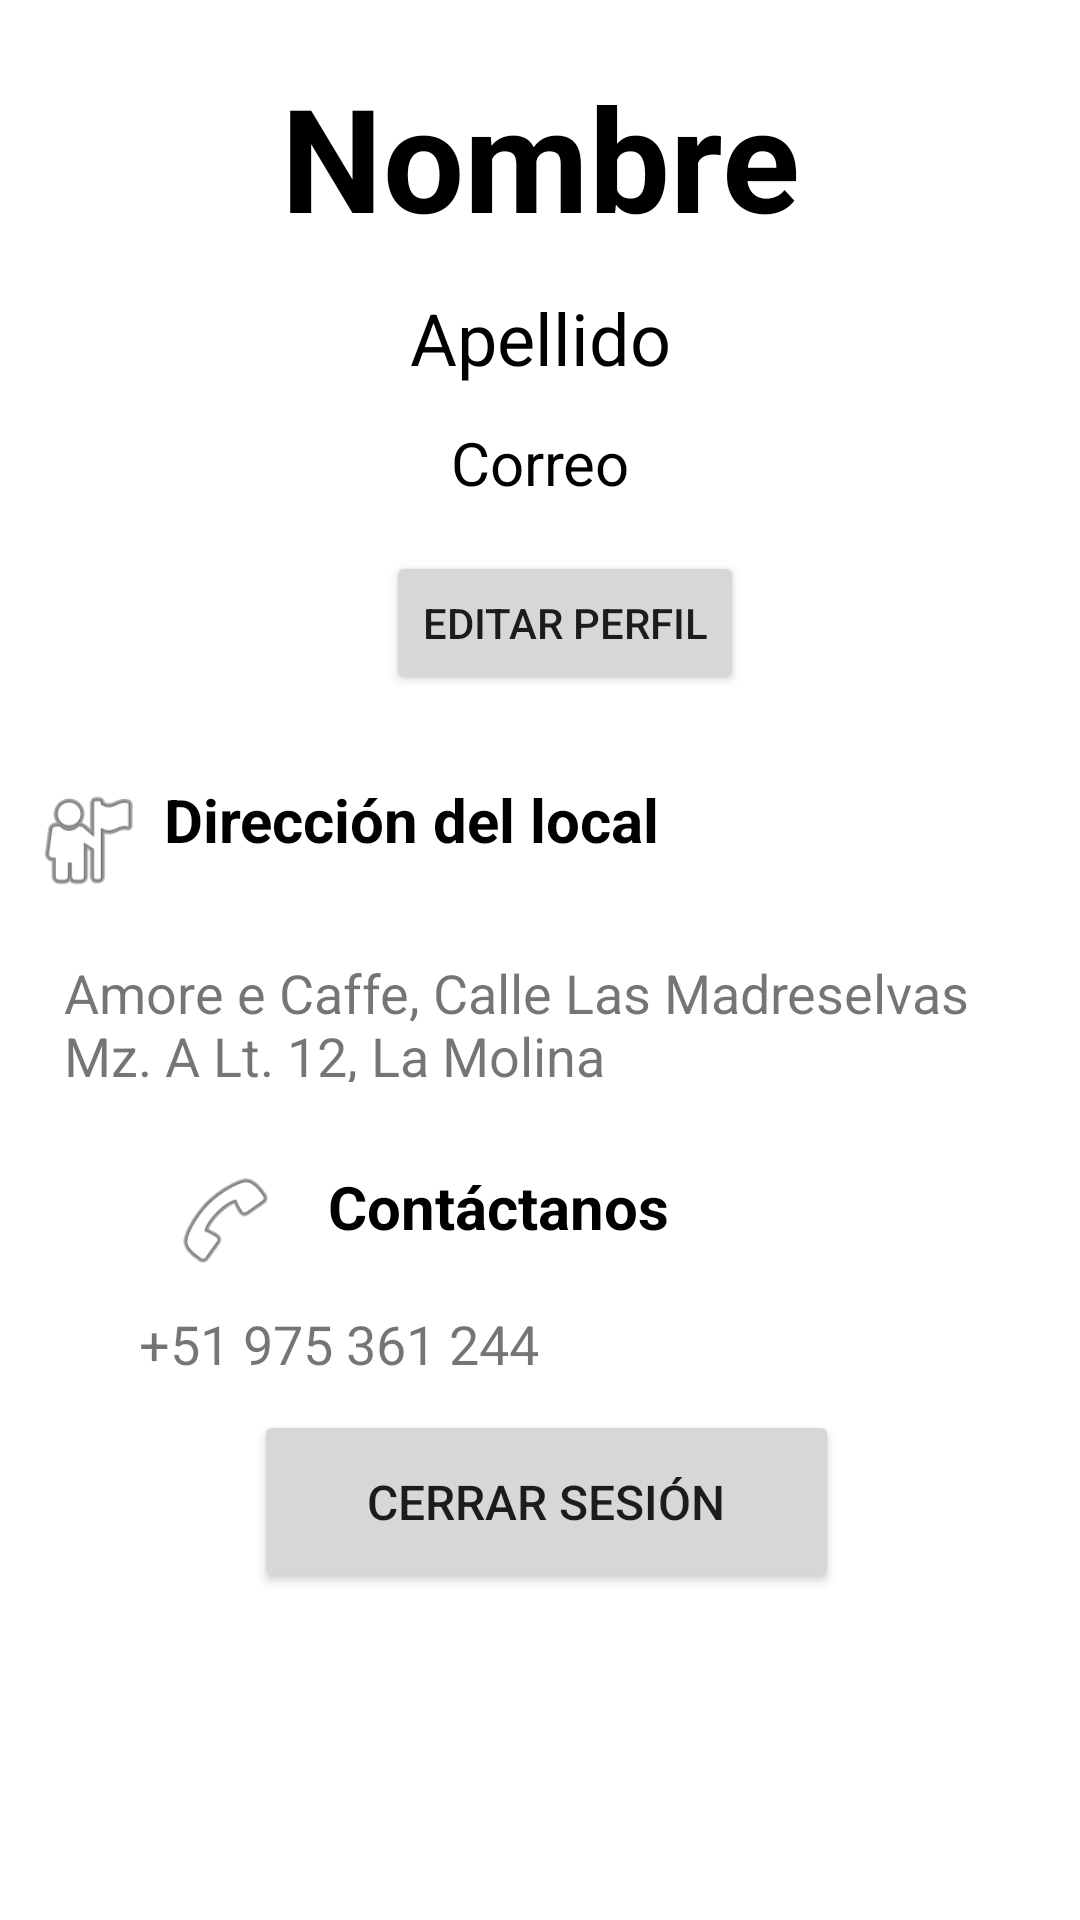

Screen size 1080px x 1920px. Icon name, then its box in pixels as (x1, y1, x2, y2):
myplaces: (45, 797, 133, 884)
